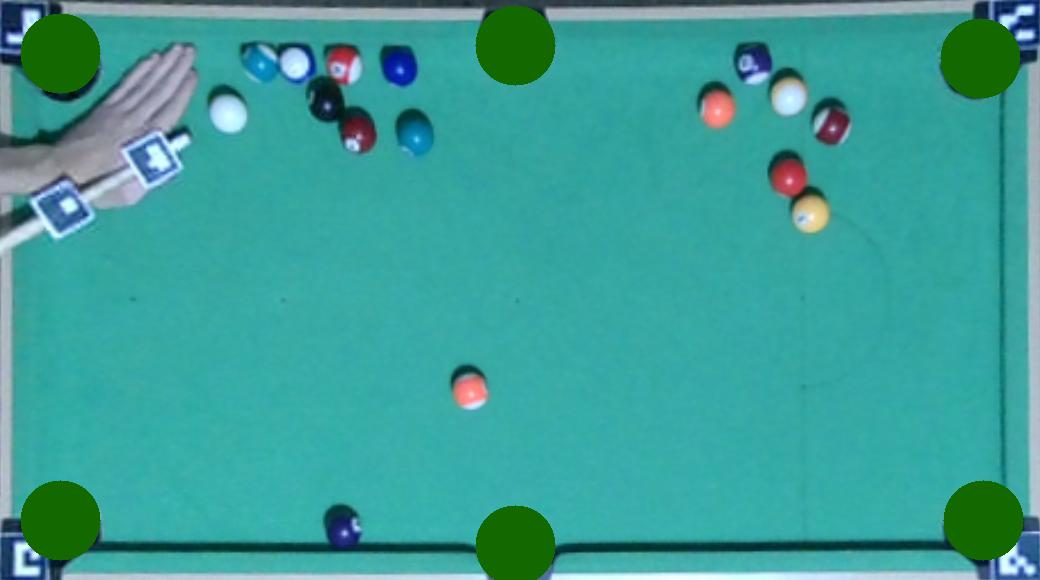Ball: (732, 43, 775, 85), (810, 102, 852, 145), (240, 41, 281, 84), (208, 94, 250, 135), (769, 75, 811, 116), (396, 113, 436, 156), (338, 113, 378, 153), (697, 89, 738, 128), (790, 194, 831, 233), (768, 158, 809, 197), (380, 47, 420, 86), (278, 45, 318, 84), (325, 509, 365, 548), (306, 83, 345, 122), (451, 373, 490, 412), (326, 46, 364, 85)
